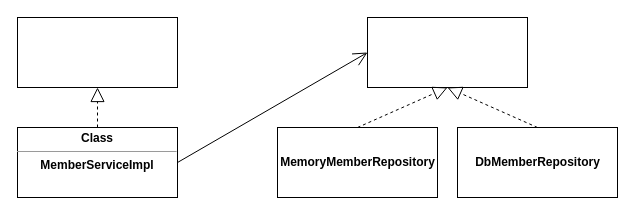
The diagram is 635 pixels wide and 215 high, and some of its shapes have lost their labels. Each missing label, with the centre of its shape:
«interface» MemberRepository: point (447, 52)
«interface» MemberService: point (97, 52)
